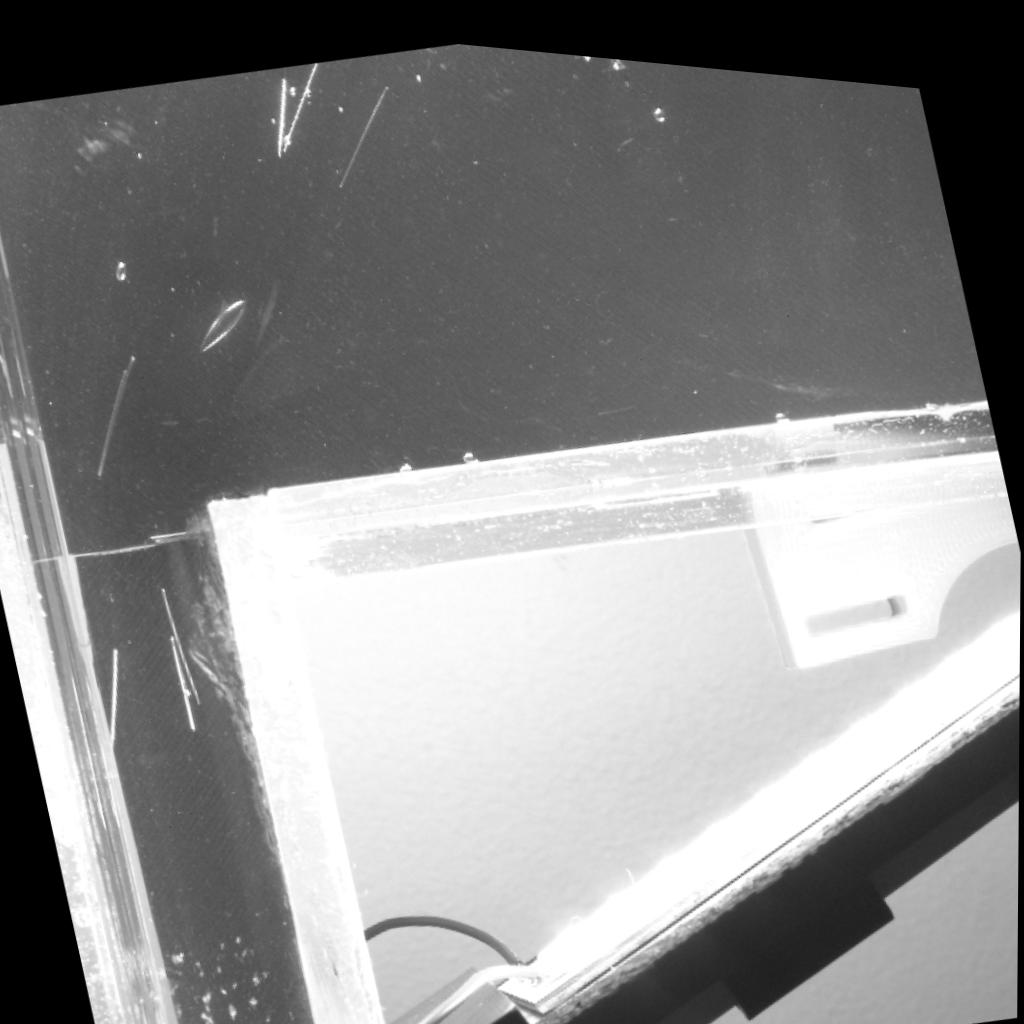Fiber: (336, 68, 393, 190), (152, 583, 208, 705), (92, 353, 139, 481), (281, 54, 324, 149), (168, 624, 201, 729), (100, 642, 122, 754), (275, 73, 290, 152)
